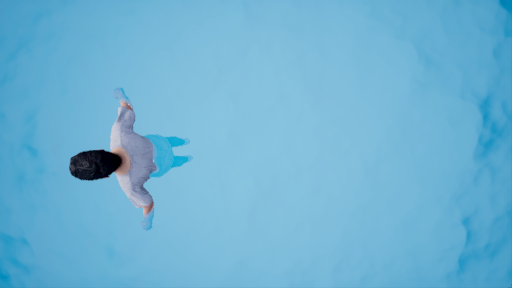person: (69, 78, 205, 236)
